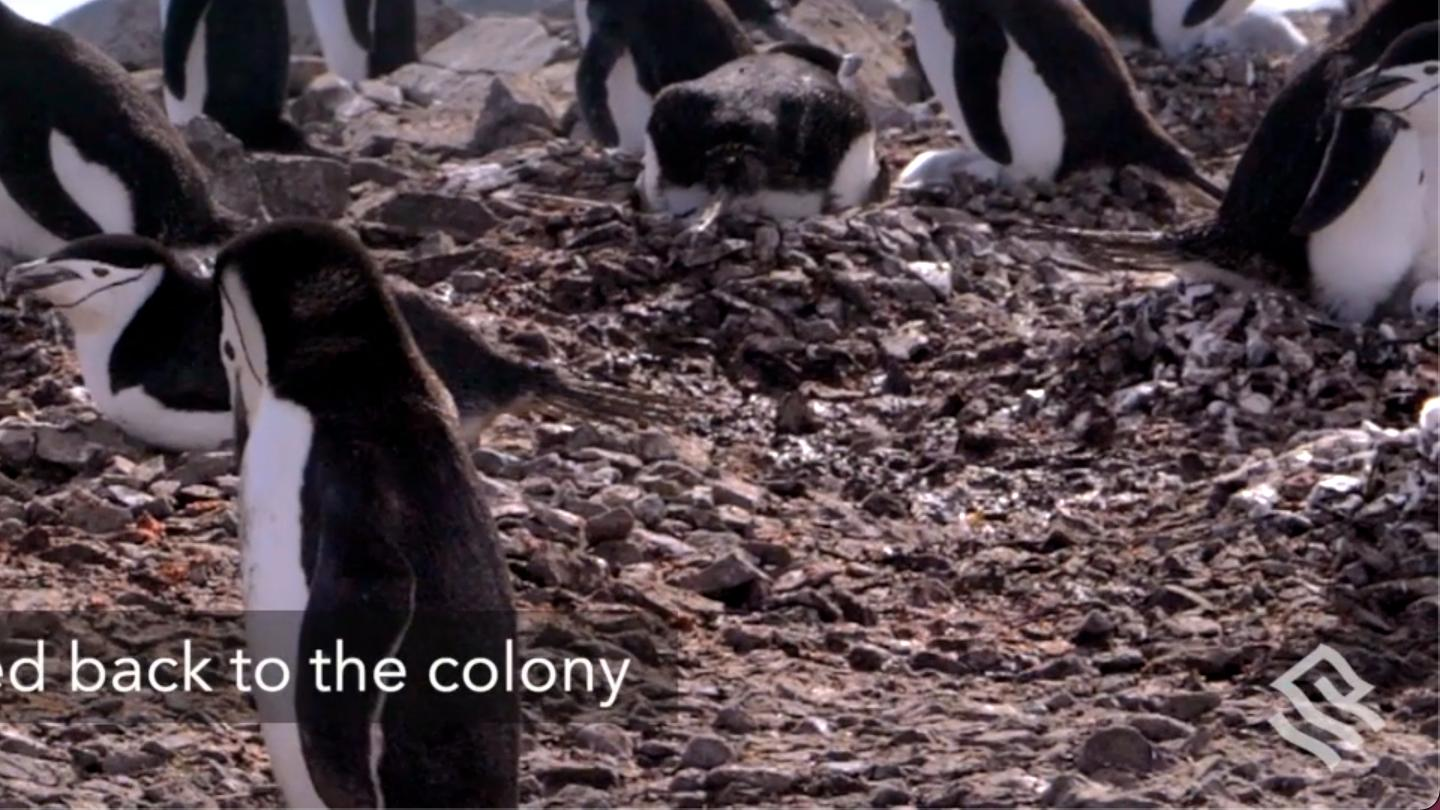Chinstrap Penguin: (170, 197, 547, 810), (847, 0, 1204, 192), (613, 40, 900, 257), (0, 203, 224, 446), (0, 0, 74, 611), (550, 0, 760, 160), (146, 0, 299, 170), (1340, 37, 1440, 250), (300, 0, 443, 140), (1070, 0, 1320, 76), (0, 0, 6, 16)
